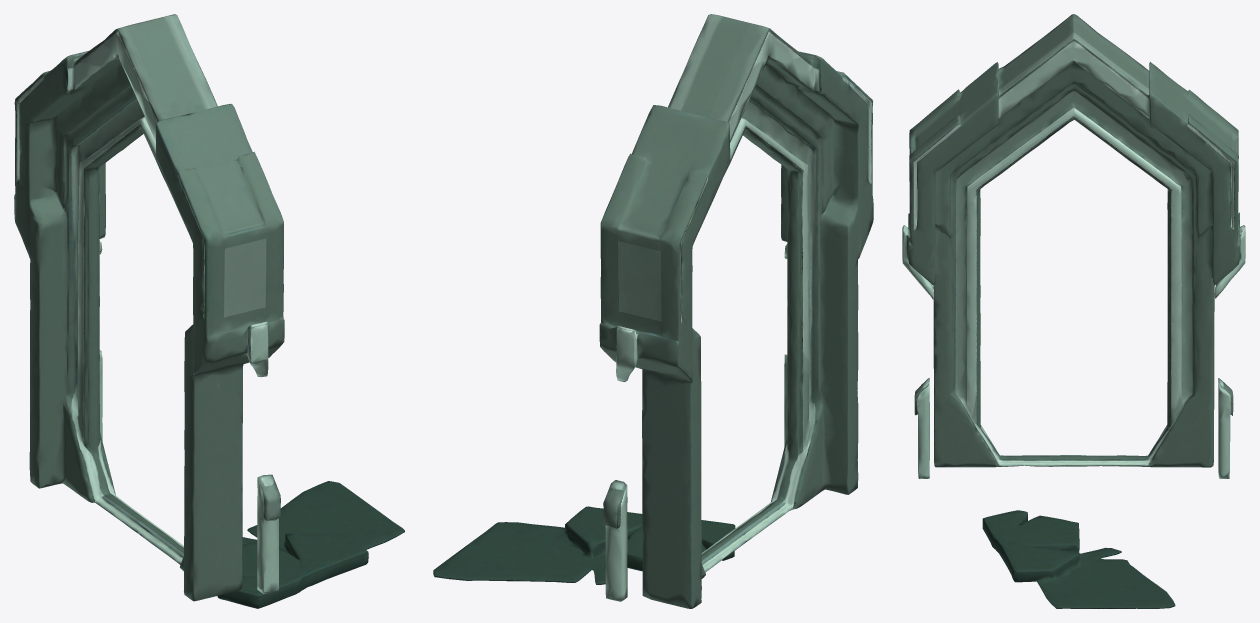
File: shooterPoral.fbx
3 renders of one model, left to right at view 1: azimuth 30°, elevation 25°; view 2: azimuth 150°, elevation 25°; view 3: azimuth 270°, elevation 25°, orthographic. The views are drawn at different scales.
Parts seen in each view (by area): view 1: tripo_node_0105c5dc; view 2: tripo_node_0105c5dc; view 3: tripo_node_0105c5dc.
Part boxes in pixels (x1,y1,x2,y2): tripo_node_0105c5dc: (14,14,404,608); tripo_node_0105c5dc: (433,14,873,608); tripo_node_0105c5dc: (902,14,1245,608).
Bounding box in the file's own units: 0.528 × 0.9996 × 0.6476.
1 material, 1 textured.
